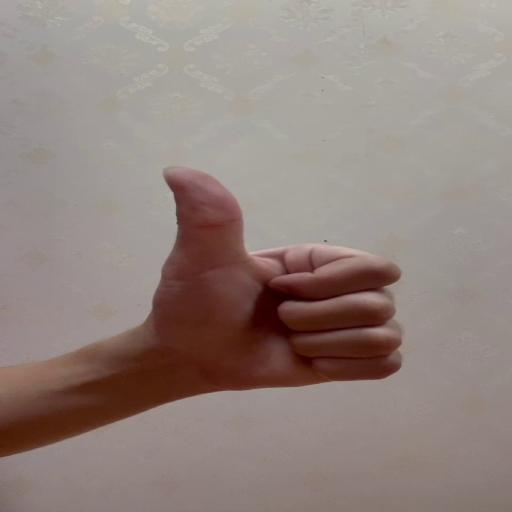thumbs_up: (151, 161, 407, 396)
